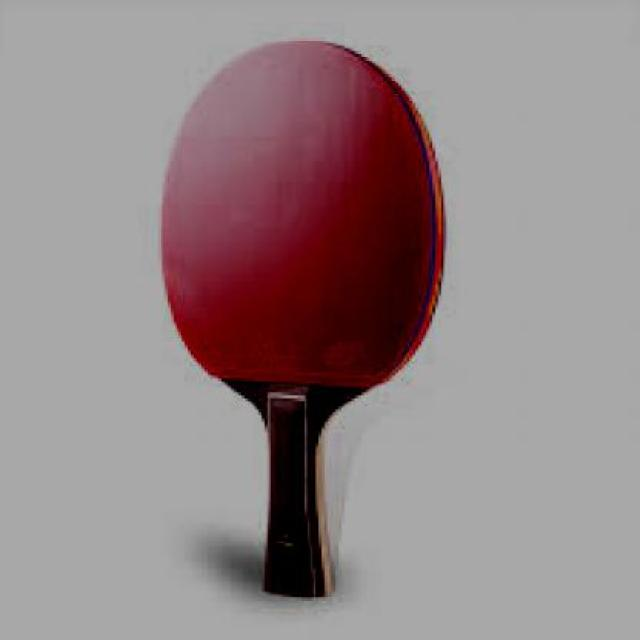table_tennis_racket: (159, 35, 450, 397)
